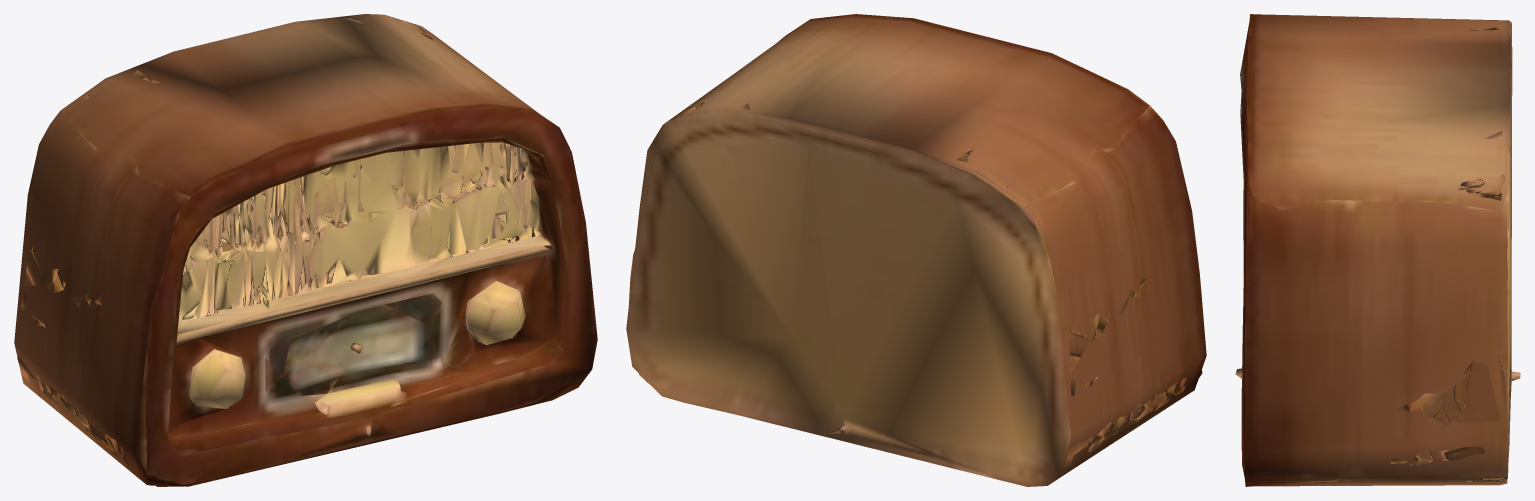
Rendered from radio.movil.glb.
3 views of the same model, side by side, from view 1: azimuth 30°, elevation 25°; view 2: azimuth 150°, elevation 25°; view 3: azimuth 270°, elevation 25° (orthographic).
Visible parts, largest first — view 1: geometry_0; view 2: geometry_0; view 3: geometry_0.
Boxes of the visible parts, x1,y1,x2,y2 form: geometry_0: [14, 14, 597, 486]; geometry_0: [626, 14, 1206, 486]; geometry_0: [1235, 14, 1520, 486].
Size of the model in its own units: 0.4499 by 0.2971 by 0.24.
1 material, 1 textured.
